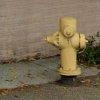a fire hydrant: (47, 16, 88, 79)
